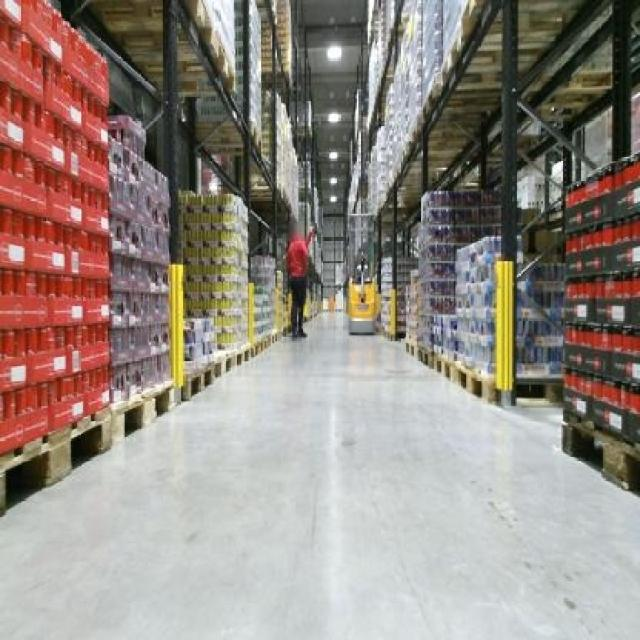floor: (0, 314, 637, 637)
pallets: (560, 152, 637, 491)
